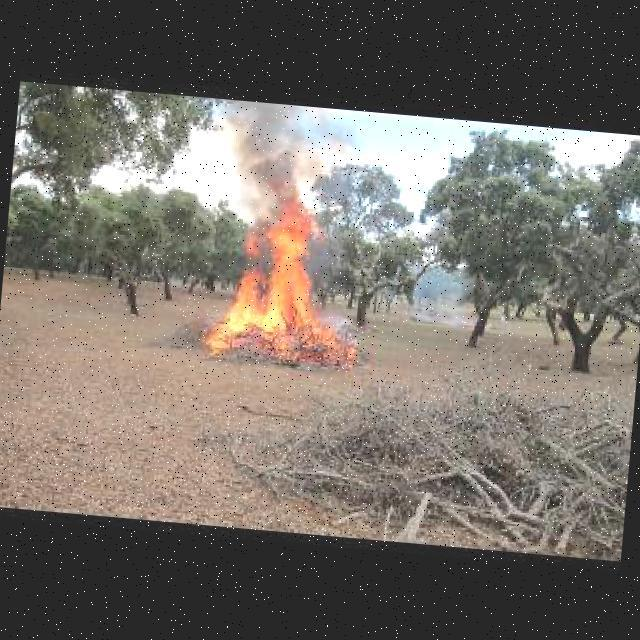Fire: (205, 197, 368, 363)
Smoke: (204, 98, 354, 230)
